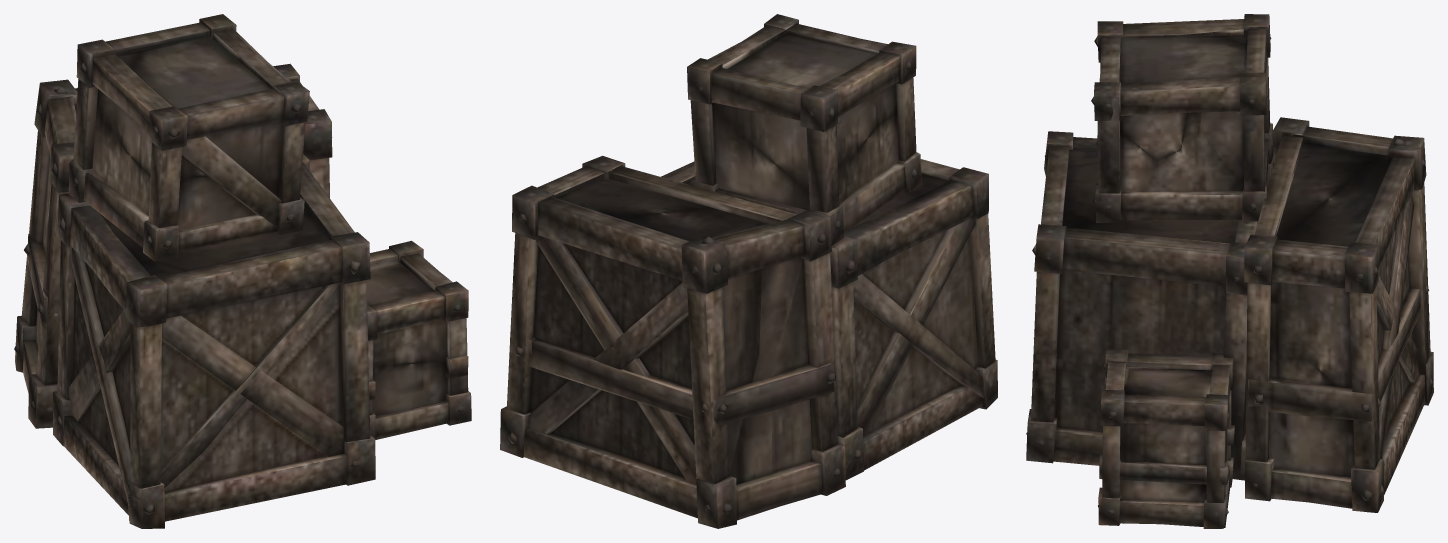
The model's file is d_box_stacked.glb.
3 views of the same model, side by side, from view 1: azimuth 30°, elevation 25°; view 2: azimuth 150°, elevation 25°; view 3: azimuth 270°, elevation 25° (orthographic). The views are drawn at different scales.
Parts seen in each view (by area): view 1: d_box_stacked; view 2: d_box_stacked; view 3: d_box_stacked.
Part boxes in pixels (x1=…): d_box_stacked: x1=14, y1=14, x2=471, y2=528; d_box_stacked: x1=500, y1=14, x2=997, y2=528; d_box_stacked: x1=1026, y1=14, x2=1433, y2=528.
Size of the model in its own units: 3.31 by 3.31 by 3.31.
Materials: 1 (1 with a texture image).
